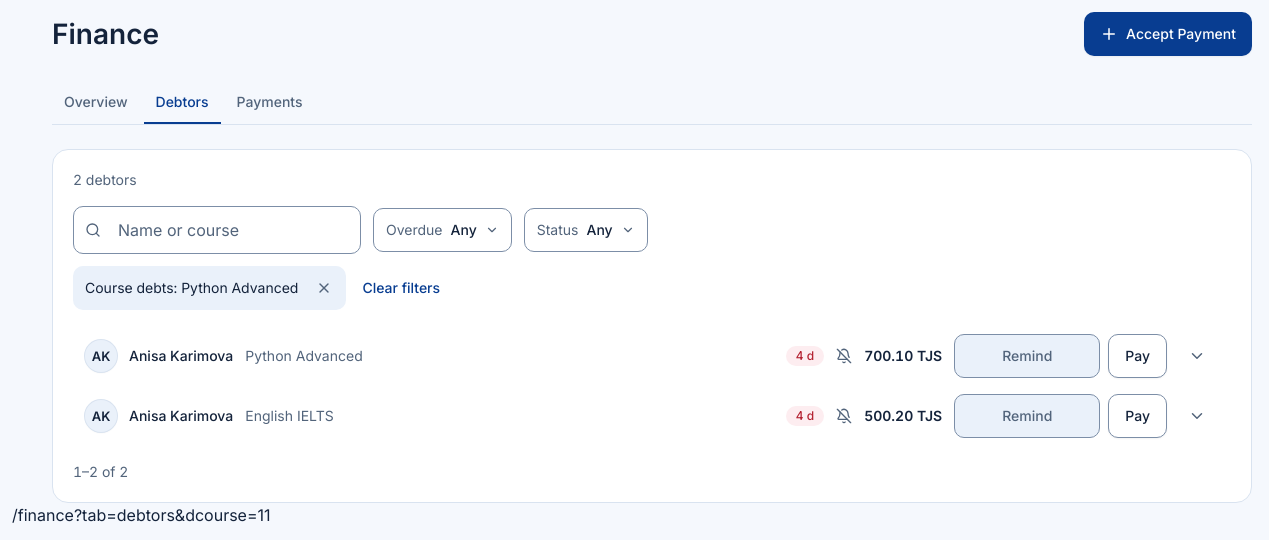
Debtors course handoff › labels a validated course filter as course debts, sends only course_id and clears it
The width and height of the screenshot is (1269, 540).
expect the text "Course debts: Python Advanced" is shown: met, box [85,278,298,298]
What coordinates should you click on to do the following:
click the button named "Clear the course filter"
I would click on:
 (324, 288)
Its box is [302,266,346,310].
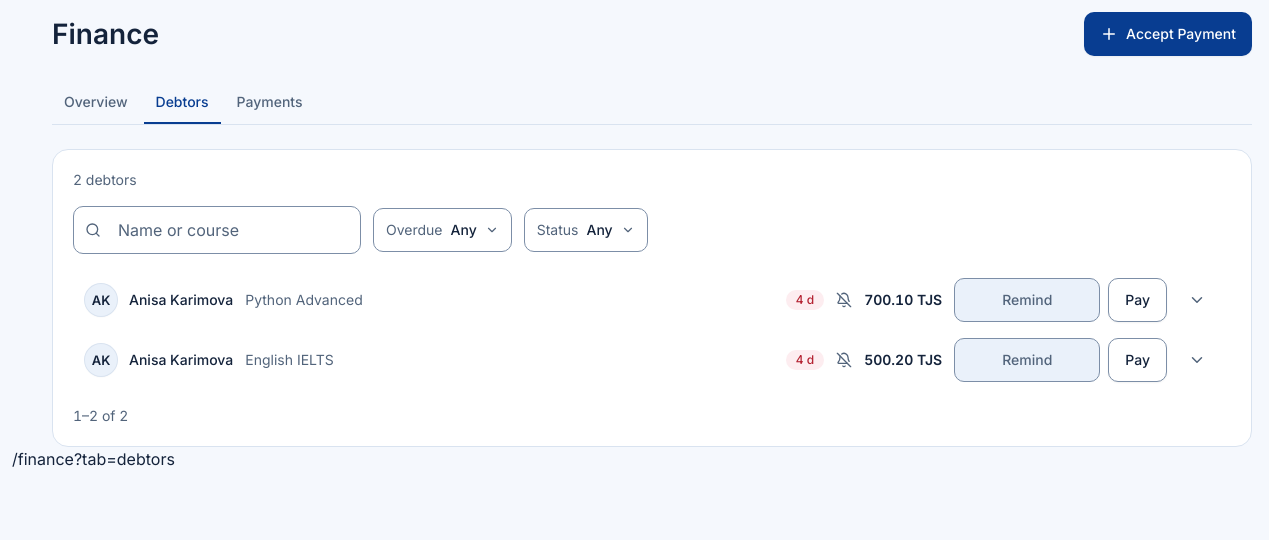
expect the text with test id "location" reads "/finance?tab=debtors": met, box [12,449,175,469]
expect the text "Course debts:" is gone: met
